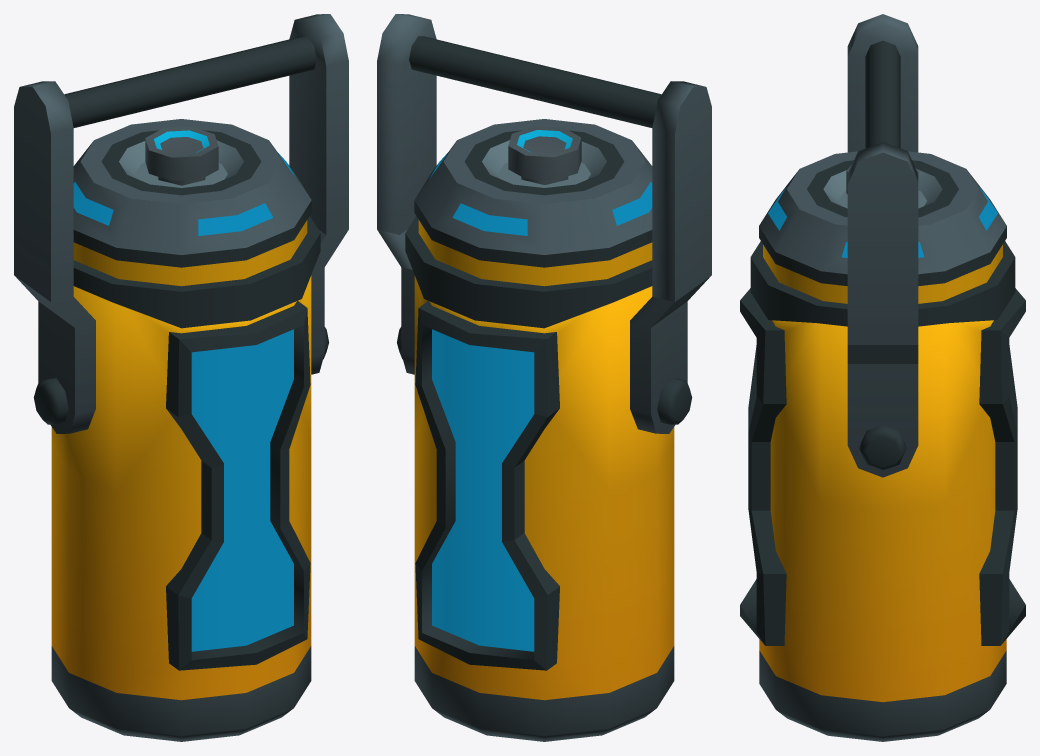
The model's file is Barrel_012.glb.
3 views of the same model, side by side, from view 1: azimuth 30°, elevation 25°; view 2: azimuth 150°, elevation 25°; view 3: azimuth 270°, elevation 25° (orthographic). The views are drawn at different scales.
Parts seen in each view (by area): view 1: Barrel_012; view 2: Barrel_012; view 3: Barrel_012.
Part boxes in pixels (box(x1,y1,x2,y2)): Barrel_012: box(14, 14, 348, 741); Barrel_012: box(377, 14, 711, 741); Barrel_012: box(740, 14, 1025, 741).
Size of the model in its own units: 0.5726 by 1.18 by 0.4996.
Materials: 2 (2 with a texture image).
